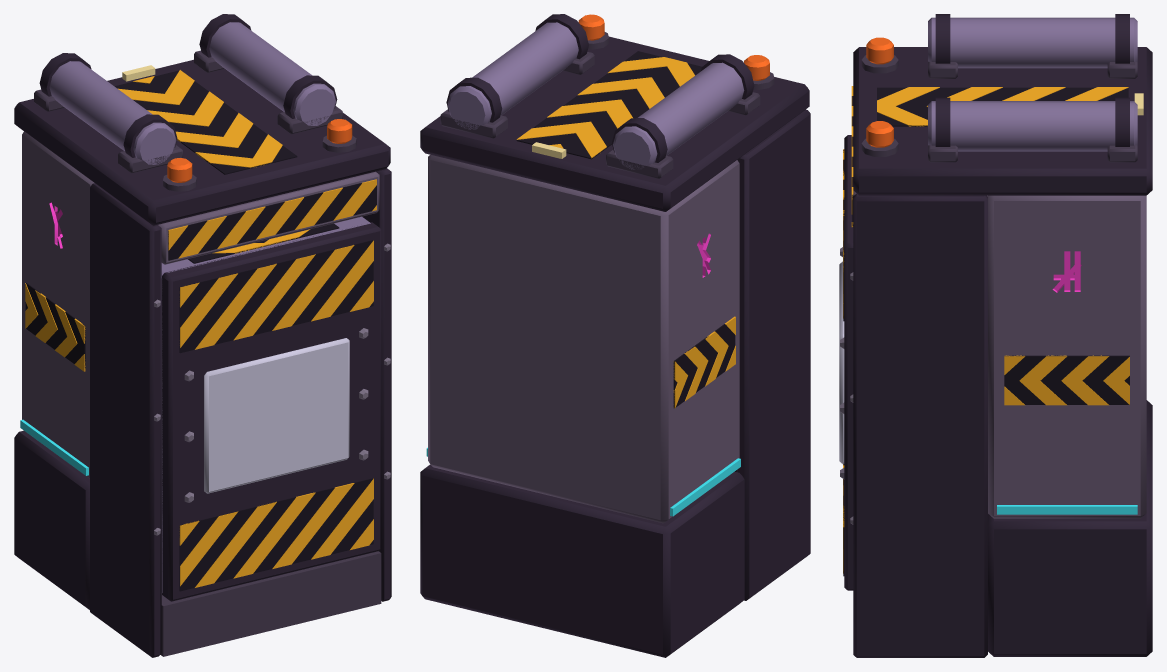
Rendered from trap_crusher__lower.glb.
The picture shows the model from 3 angles, left to right: view 1: azimuth 30°, elevation 25°; view 2: azimuth 150°, elevation 25°; view 3: azimuth 270°, elevation 25°; orthographic projection. The views are drawn at different scales.
Parts seen in each view (by area): view 1: Housing, Head; view 2: Housing; view 3: Housing, Head.
Part boxes in pixels (x1,y1,x2,y2): Housing: [14, 14, 391, 657]; Head: [161, 216, 381, 601]; Housing: [420, 14, 810, 657]; Housing: [850, 14, 1152, 657]; Head: [839, 135, 853, 590].
Size of the model in its own units: 1 by 1.98 by 1.05.
